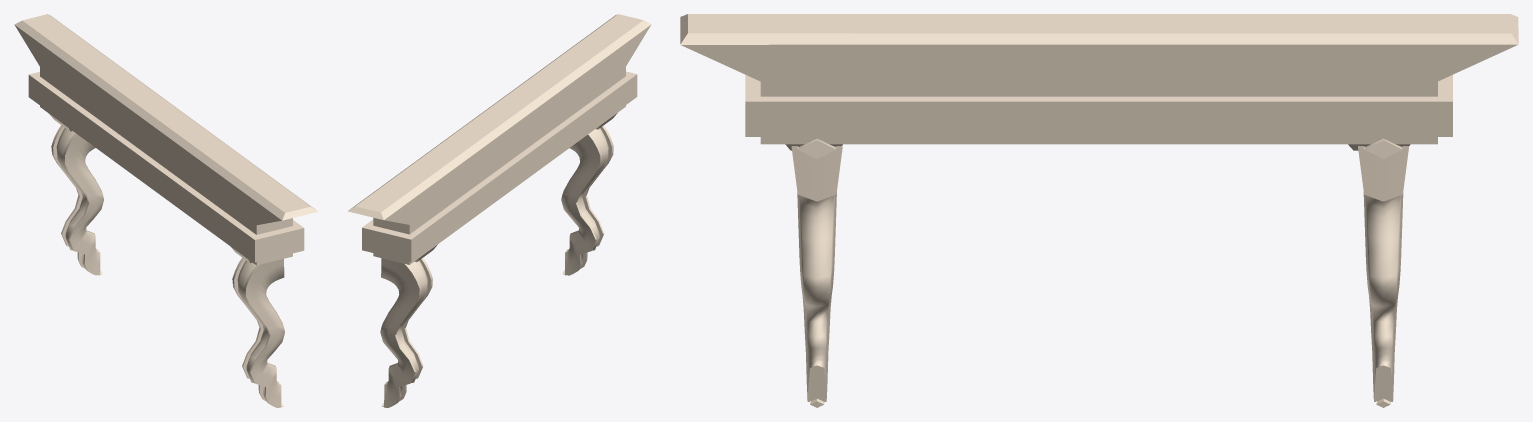
The model's file is window_decor_01.fbx.
3 renders of one model, left to right at view 1: azimuth 30°, elevation 25°; view 2: azimuth 150°, elevation 25°; view 3: azimuth 270°, elevation 25°, orthographic. The views are drawn at different scales.
Visible parts, largest first — view 1: window_decor_01_top, window_decor_01_pics2, window_decor_01_pics1; view 2: window_decor_01_top, window_decor_01_pics1, window_decor_01_pics2; view 3: window_decor_01_top, window_decor_01_pics2, window_decor_01_pics1.
Part boxes in pixels (x1,y1,x2,y2): window_decor_01_top: (14,14,318,265); window_decor_01_pics2: (232,257,284,407); window_decor_01_pics1: (51,125,103,275); window_decor_01_top: (348,14,651,264); window_decor_01_pics1: (380,258,432,407); window_decor_01_pics2: (561,125,613,275); window_decor_01_top: (680,14,1518,150); window_decor_01_pics2: (791,138,842,407); window_decor_01_pics1: (1358,138,1408,407).
Size of the model in its own units: 0.4219 by 1.81 by 3.77.
